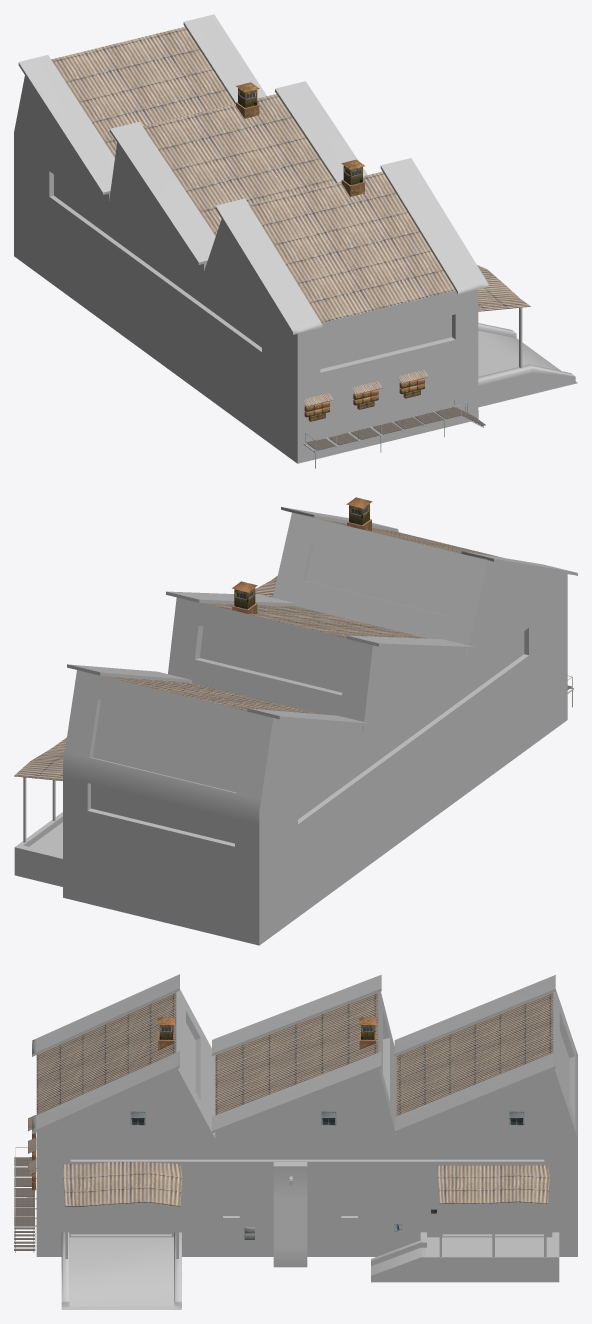
The model's file is ind4_hall2_LOD1.fbx.
3 renders of one model, top to bottom at view 1: azimuth 30°, elevation 25°; view 2: azimuth 150°, elevation 25°; view 3: azimuth 270°, elevation 25°, orthographic. The views are drawn at different scales.
Visible parts, largest first — view 1: Mesh Object; view 2: Mesh Object; view 3: Mesh Object.
Boxes of the visible parts, x1,y1,x2,y2 form: Mesh Object: (14, 14, 577, 468); Mesh Object: (14, 497, 577, 945); Mesh Object: (14, 974, 577, 1309).
Bounding box in the file's own units: 24.64 × 17.53 × 41.99.
